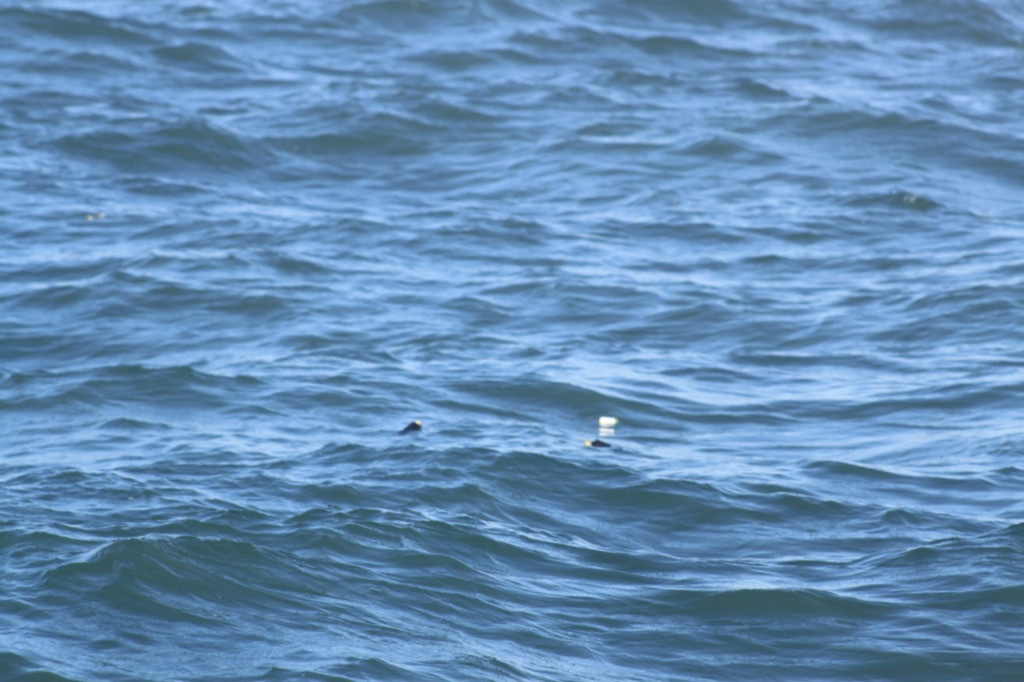plastic: (379, 409, 445, 452), (577, 398, 631, 444), (566, 433, 630, 470)
